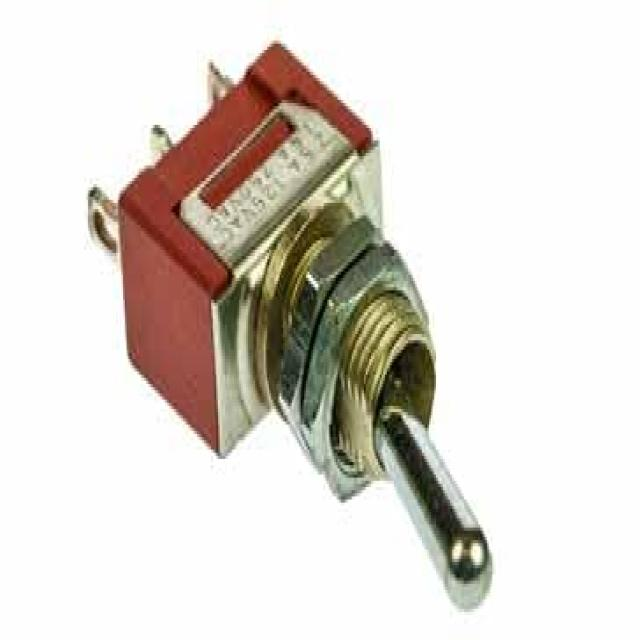switch: (116, 44, 489, 609)
